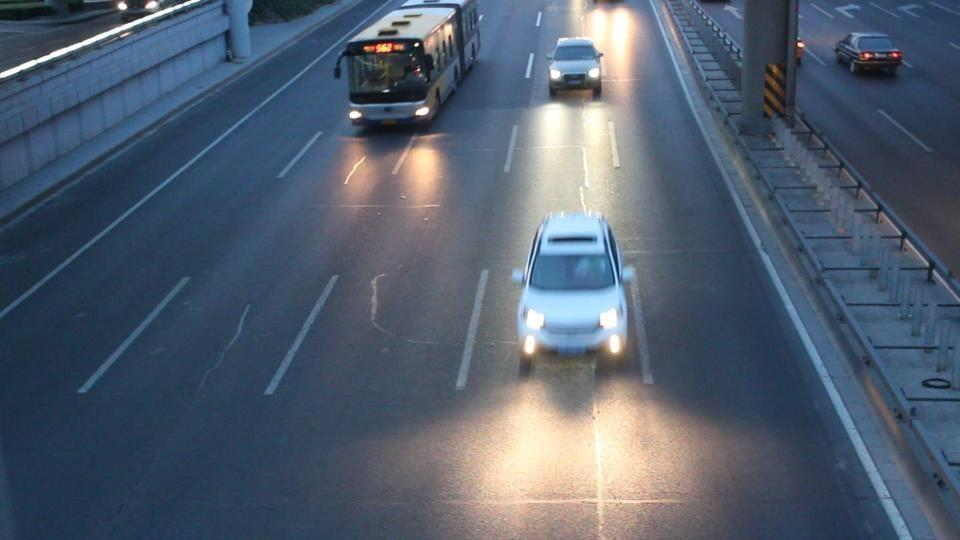car: (513, 209, 634, 370), (547, 36, 604, 98), (834, 31, 905, 77)
